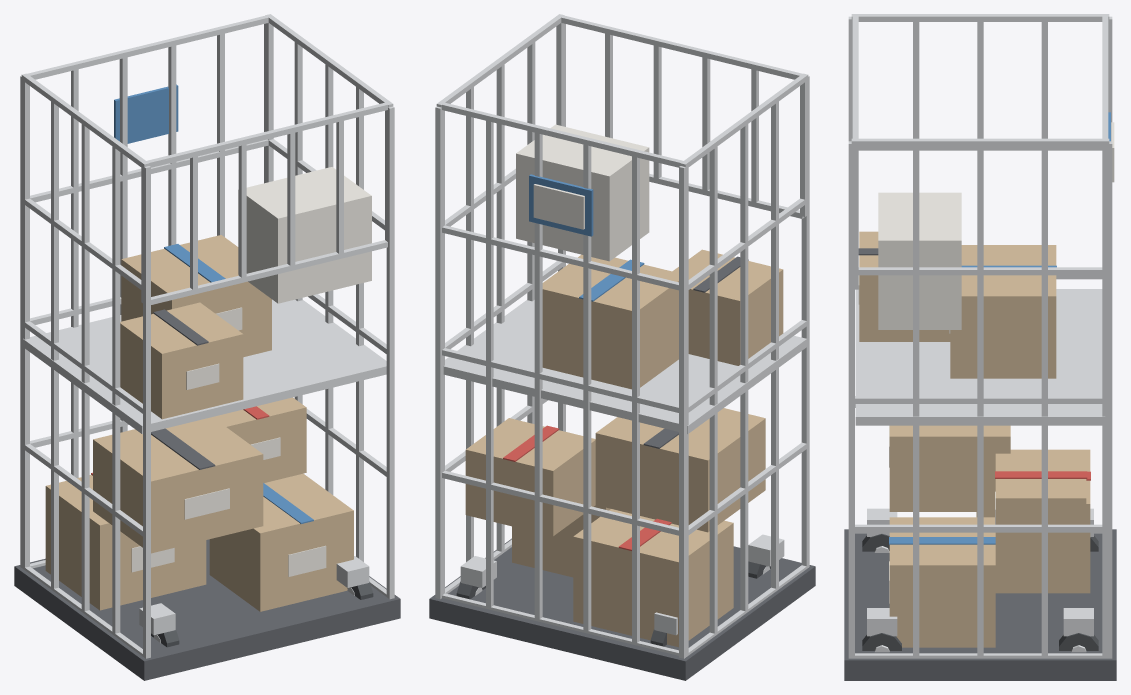
The model's file is parcel-cage-loaded.glb.
3 renders of one model, left to right at view 1: azimuth 30°, elevation 25°; view 2: azimuth 150°, elevation 25°; view 3: azimuth 270°, elevation 25°, orthographic. The views are drawn at different scales.
Parts seen in each view (by area): view 1: parcel-depot-and-sorting-hall-parcel-cage; view 2: parcel-depot-and-sorting-hall-parcel-cage; view 3: parcel-depot-and-sorting-hall-parcel-cage.
Part boxes in pixels (x1,y1,x2,y2): parcel-depot-and-sorting-hall-parcel-cage: (14,14,400,680); parcel-depot-and-sorting-hall-parcel-cage: (429,14,815,680); parcel-depot-and-sorting-hall-parcel-cage: (844,14,1116,680).
Size of the model in its own units: 0.82 by 1.57 by 0.72.
